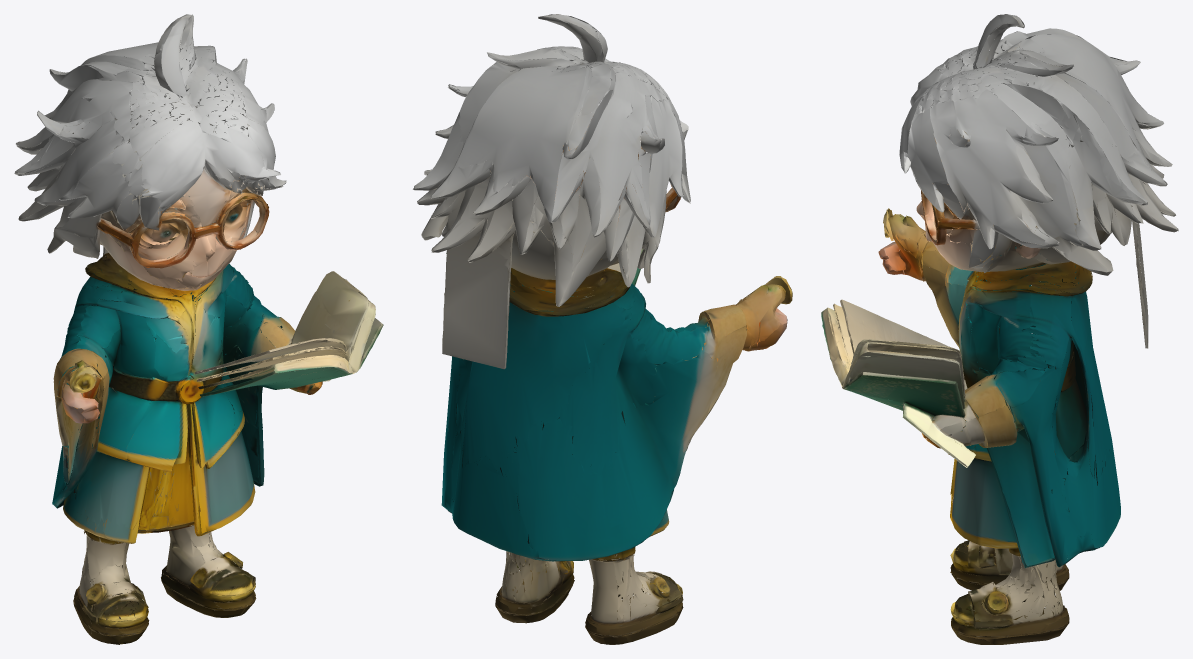
The model's file is hunyuan-geographer.glb.
The picture shows the model from 3 angles, left to right: view 1: azimuth 30°, elevation 25°; view 2: azimuth 150°, elevation 25°; view 3: azimuth 270°, elevation 25°; orthographic projection. The views are drawn at different scales.
Parts seen in each view (by area): view 1: node_0; view 2: node_0; view 3: node_0.
Boxes of the visible parts, left/top/right/bottom form: node_0: left=14, top=14, right=383, bottom=644; node_0: left=413, top=14, right=792, bottom=644; node_0: left=821, top=14, right=1178, bottom=644.
Size of the model in its own units: 0.6352 by 1.15 by 0.6173.
Materials: 1 (1 with a texture image).
